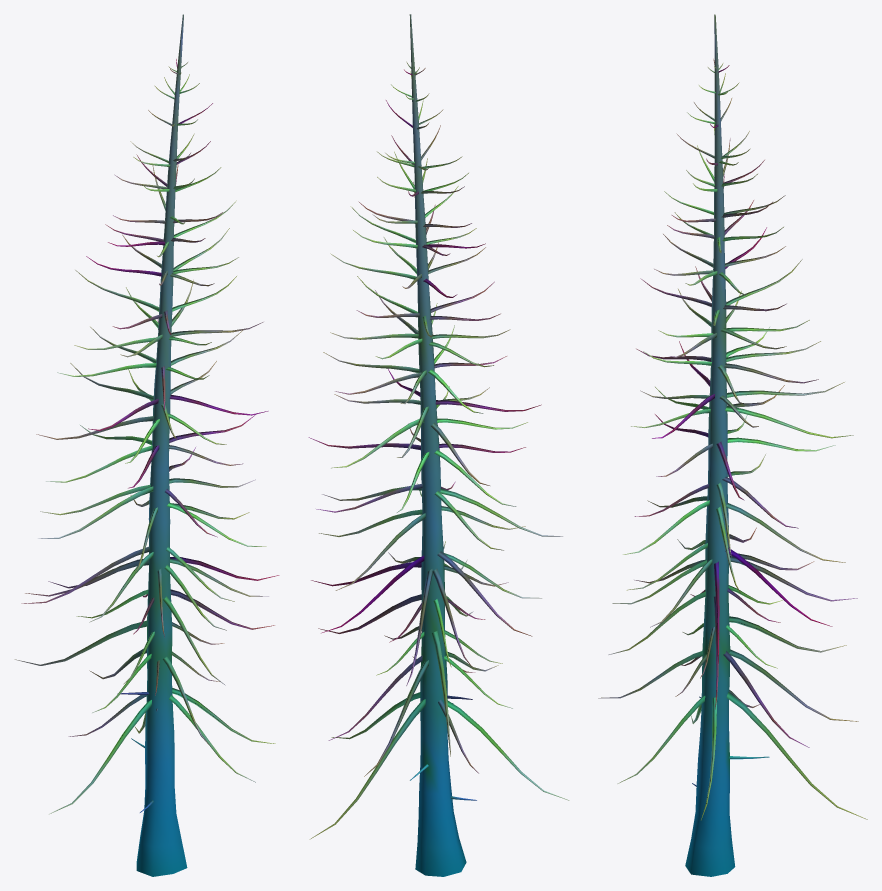
File: spruce-old-b.glb
The picture shows the model from 3 angles, left to right: view 1: azimuth 30°, elevation 25°; view 2: azimuth 150°, elevation 25°; view 3: azimuth 270°, elevation 25°; orthographic projection. The views are drawn at different scales.
Visible parts, largest first — view 1: bark; view 2: bark; view 3: bark.
Part boxes in pixels (bbox=[...]): bark: bbox=[14, 14, 279, 876]; bark: bbox=[308, 14, 569, 876]; bark: bbox=[598, 14, 867, 876].
Size of the model in its own units: 8.4 by 27.45 by 7.76.
